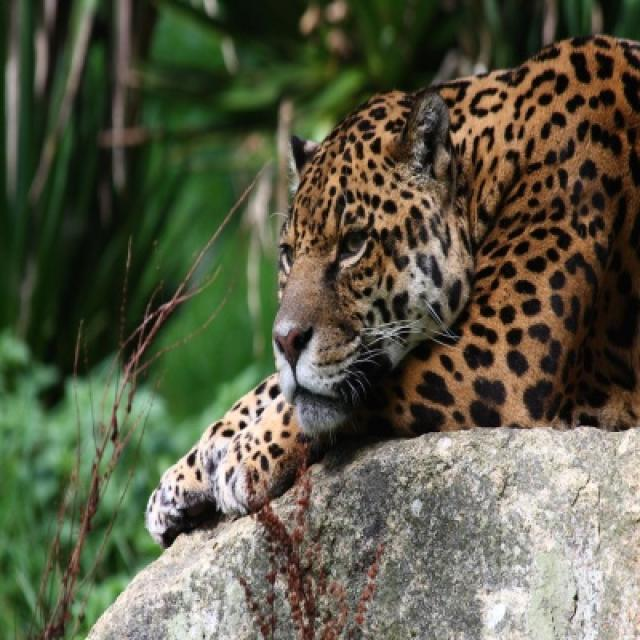Jaguar: (146, 34, 638, 547)
